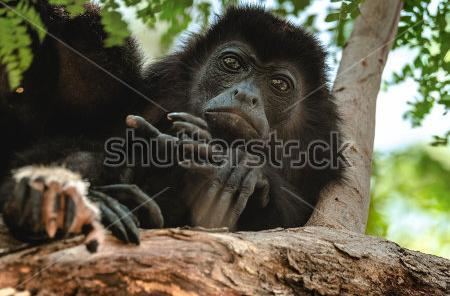monkey: (0, 8, 367, 246)
